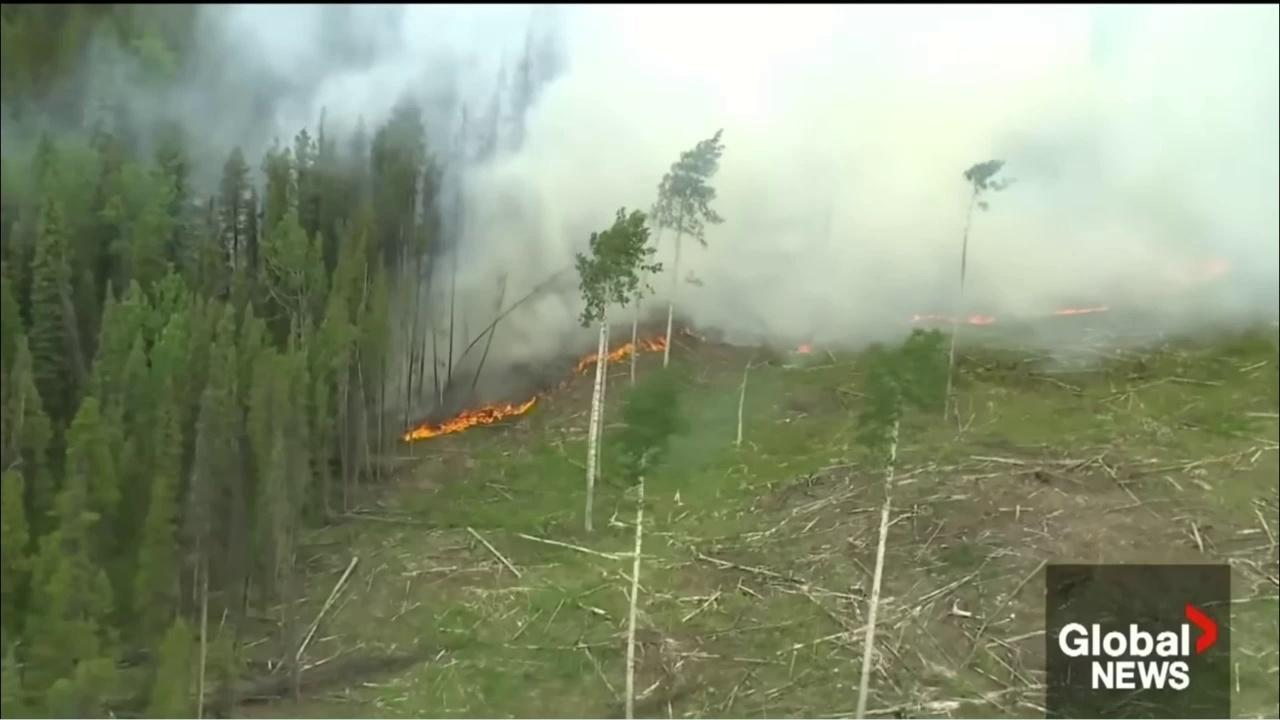fire: (403, 391, 538, 443), (577, 333, 669, 378), (914, 311, 998, 325), (1054, 305, 1111, 315), (796, 342, 810, 355)
smoke: (1, 4, 1279, 440)
